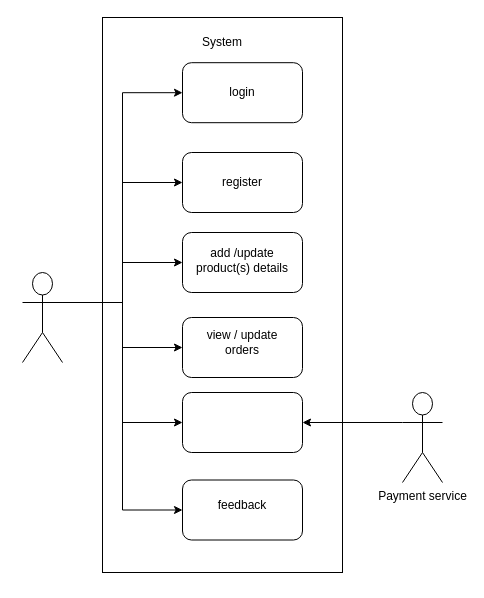
Image size: 484x598. Some labels were removed from this diagram. The shapes that lost their labels are listed below. From the top down, each one's centre as x and y in pixels, then its label:
pixel 42 317: Merchant
pixel 242 422: receive payment for product(s)
